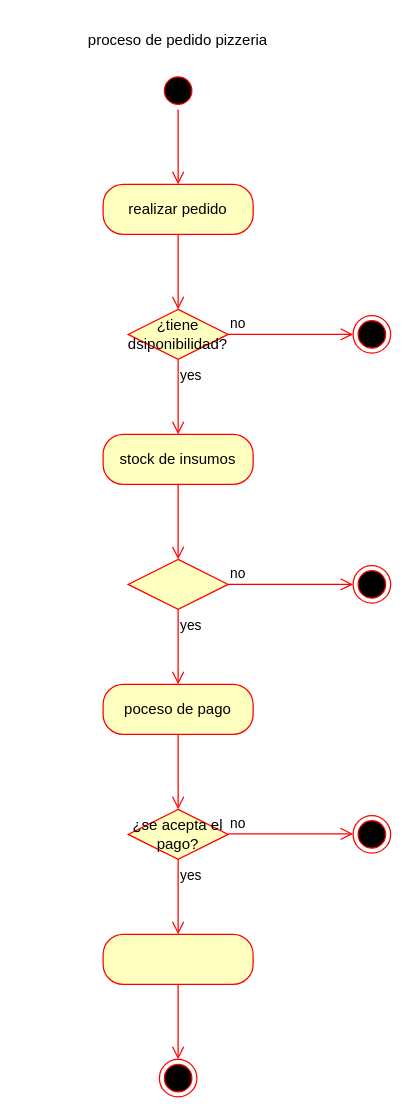
Image size: 413x1119. Some labels were removed from this diagram. Here are the shapes that lost their labels. From the top down, the centre of each, then its label:
the point at 177,583: ¿hay insumos suficientes?
the point at 177,958: retiro de pedido
